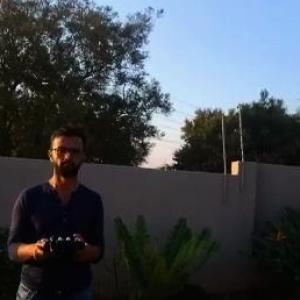follow: (0, 118, 110, 299)
